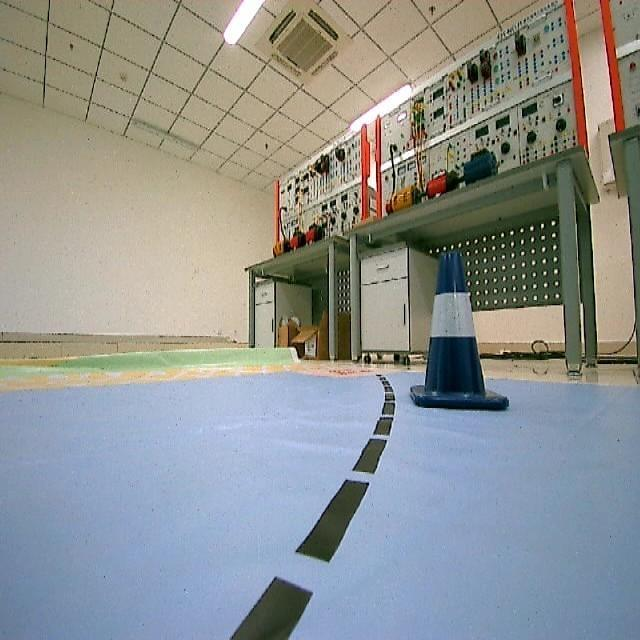obstacle: (406, 246, 514, 434)
